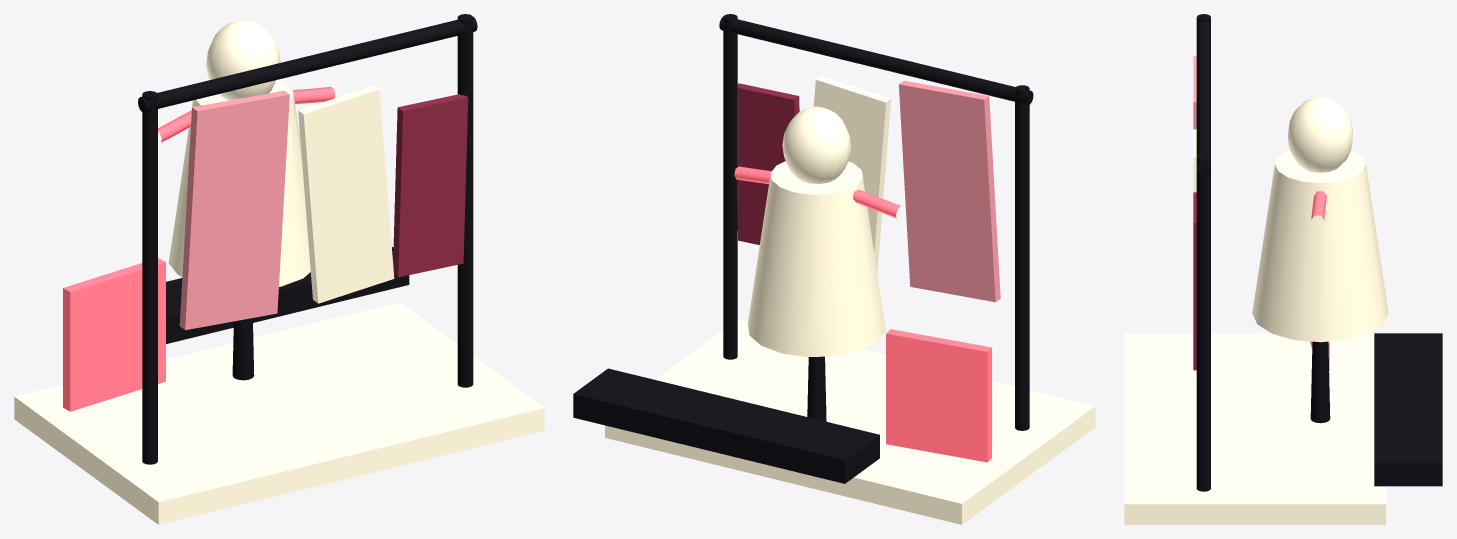
Rendered from atelier-mannequin-rack.glb.
3 views of the same model, side by side, from view 1: azimuth 30°, elevation 25°; view 2: azimuth 150°, elevation 25°; view 3: azimuth 270°, elevation 25° (orthographic). The views are drawn at different scales.
Visible parts, largest first — view 1: atelier-floor-plate, hanging-cloth-coral, hanging-cloth-cream, hanging-cloth-dark, pattern-board, rack-left, mannequin-torso, rack-bar, rack-right, mannequin-head, tailor-table-edge, mannequin-stand (+1 smaller); view 2: atelier-floor-plate, mannequin-torso, hanging-cloth-coral, tailor-table-edge, pattern-board, hanging-cloth-dark, hanging-cloth-cream, rack-left, rack-right, rack-bar, mannequin-head, mannequin-stand (+1 smaller); view 3: atelier-floor-plate, mannequin-torso, tailor-table-edge, rack-right, mannequin-head, rack-bar, mannequin-stand, hanging-cloth-dark.
Part boxes in pixels (x1=…): atelier-floor-plate: x1=14, y1=302, x2=544, y2=524; hanging-cloth-coral: x1=179, y1=90, x2=289, y2=330; hanging-cloth-cream: x1=298, y1=85, x2=394, y2=303; hanging-cloth-dark: x1=393, y1=94, x2=468, y2=277; pattern-board: x1=63, y1=258, x2=165, y2=411; rack-left: x1=142, y1=91, x2=157, y2=464; mannequin-torso: x1=168, y1=79, x2=310, y2=286; rack-bar: x1=138, y1=16, x2=477, y2=112; rack-right: x1=457, y1=14, x2=473, y2=387; mannequin-head: x1=206, y1=20, x2=280, y2=100; tailor-table-edge: x1=166, y1=247, x2=409, y2=343; mannequin-stand: x1=232, y1=318, x2=254, y2=380; atelier-floor-plate: x1=605, y1=319, x2=1095, y2=524; mannequin-torso: x1=747, y1=161, x2=885, y2=356; hanging-cloth-coral: x1=899, y1=80, x2=1000, y2=302; tailor-table-edge: x1=573, y1=368, x2=879, y2=483; pattern-board: x1=886, y1=329, x2=991, y2=462; hanging-cloth-dark: x1=737, y1=83, x2=799, y2=244; hanging-cloth-cream: x1=813, y1=76, x2=890, y2=272; rack-left: x1=1015, y1=85, x2=1029, y2=430; rack-right: x1=723, y1=14, x2=737, y2=359; rack-bar: x1=719, y1=16, x2=1033, y2=104; mannequin-head: x1=782, y1=106, x2=851, y2=183; mannequin-stand: x1=807, y1=356, x2=826, y2=421; atelier-floor-plate: x1=1124, y1=333, x2=1385, y2=524; mannequin-torso: x1=1252, y1=150, x2=1388, y2=342; tailor-table-edge: x1=1374, y1=333, x2=1442, y2=486; rack-right: x1=1196, y1=153, x2=1210, y2=491; mannequin-head: x1=1288, y1=96, x2=1352, y2=172; rack-bar: x1=1196, y1=21, x2=1210, y2=173; mannequin-stand: x1=1310, y1=341, x2=1330, y2=423; hanging-cloth-dark: x1=1193, y1=192, x2=1196, y2=370.
Size of the model in its own units: 1.43 by 1.37 by 1.12.
